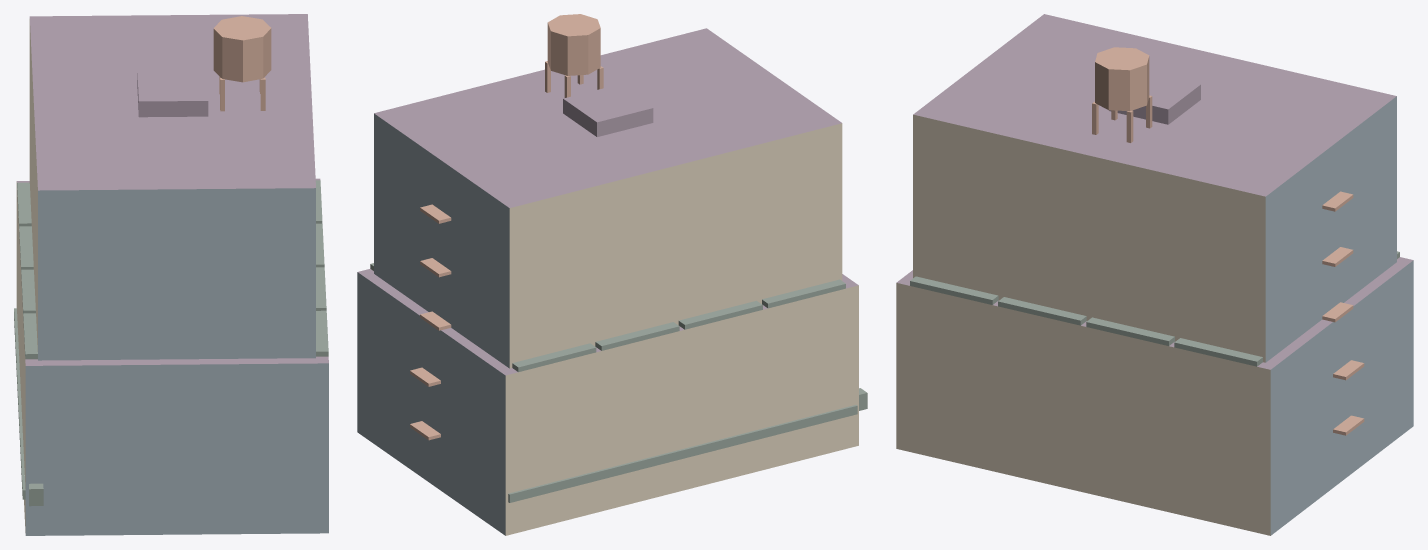
Rendered from doitt-584049__lod_1.glb.
3 views of the same model, side by side, from view 1: azimuth 30°, elevation 25°; view 2: azimuth 150°, elevation 25°; view 3: azimuth 270°, elevation 25° (orthographic). The views are drawn at different scales.
Size of the model in its own units: 29.87 by 28.38 by 32.94.
